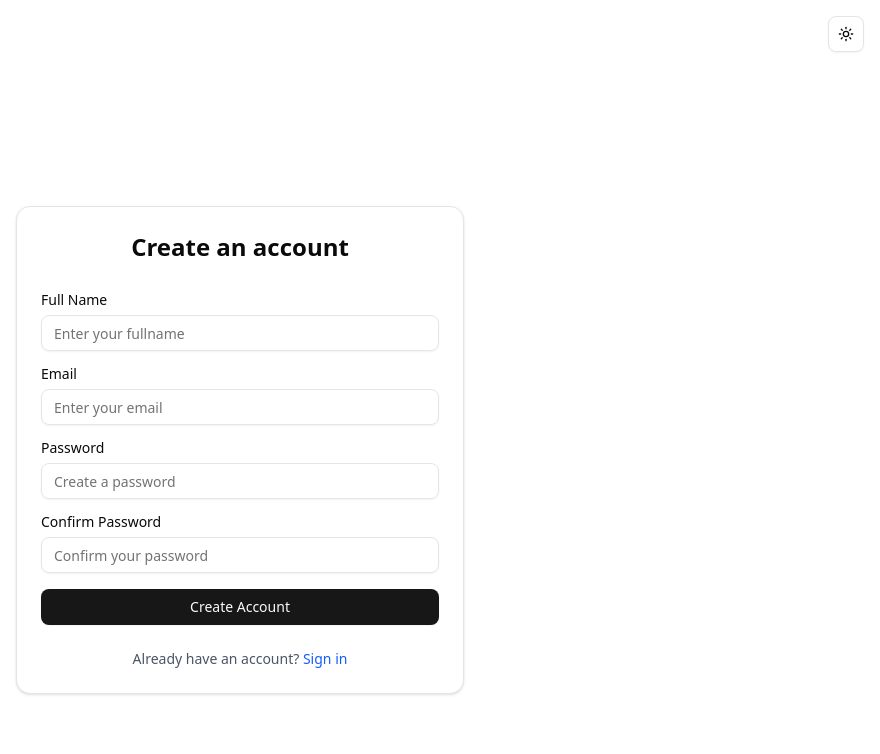
it: RegisterForm › shows inline error when passwords do not match
The image size is (880, 754).
Type "password123" into the password field labelled "Password" at (240, 481), box 41,463 -> 439,499
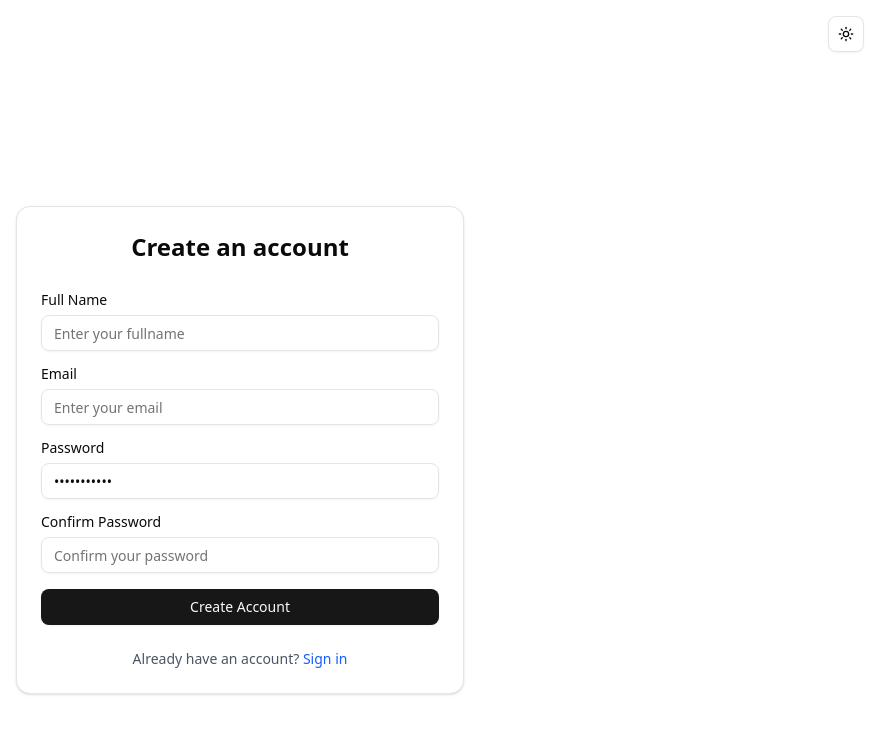
Type "different" into the password field labelled "Confirm Password" at (240, 555), box 41,537 -> 439,573
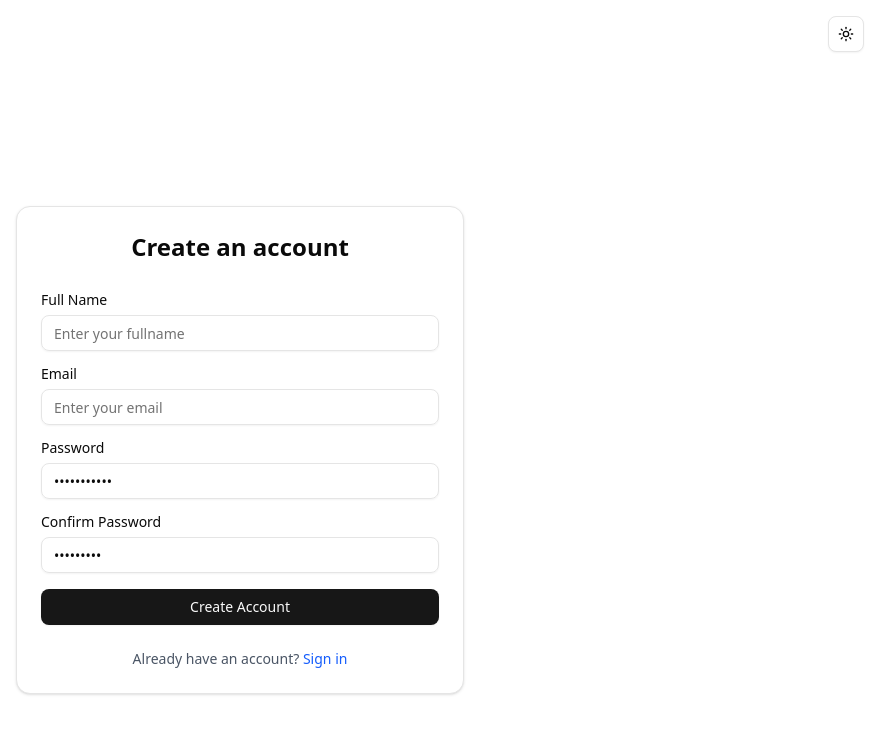
Click the button "Create Account" at (240, 607), box 41,589 -> 439,625
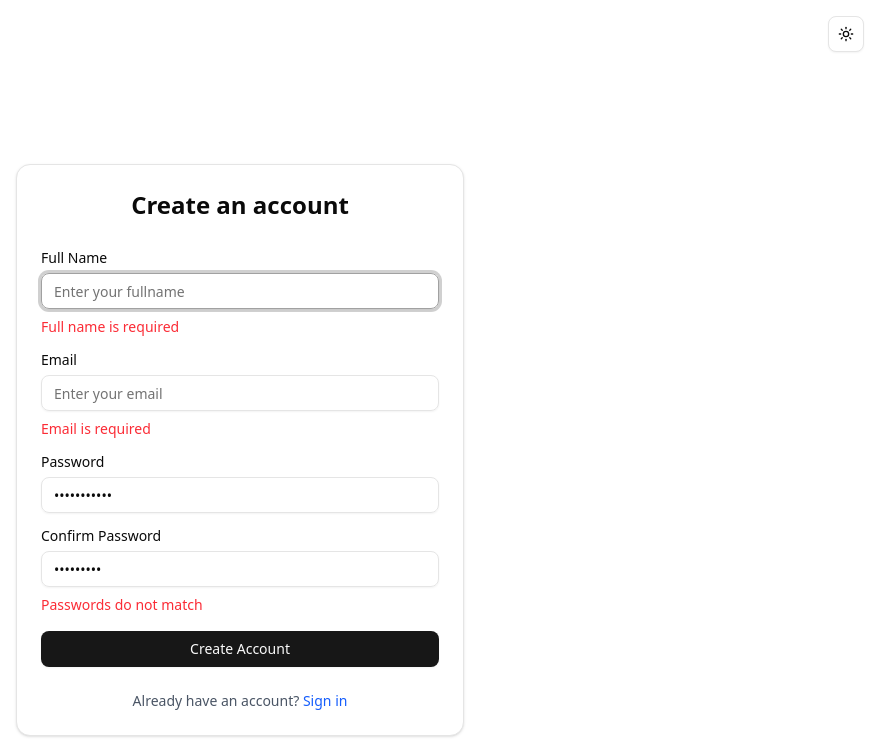
Expected: the text "Passwords do not match" is shown, 41,595 -> 203,614
